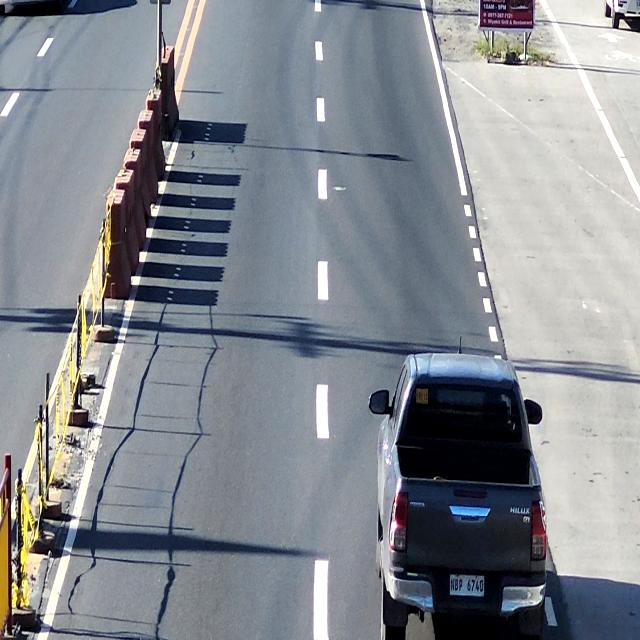Car: (374, 346, 547, 640)
License-Plate: (448, 570, 487, 604)
